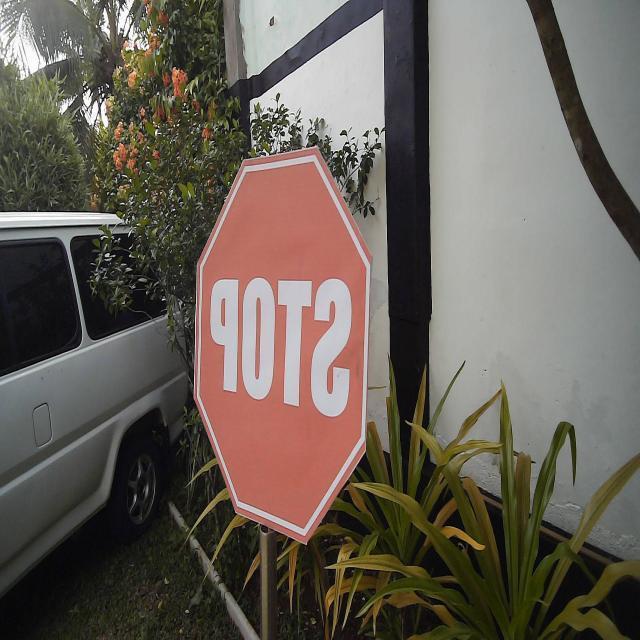stop: (190, 142, 374, 550)
